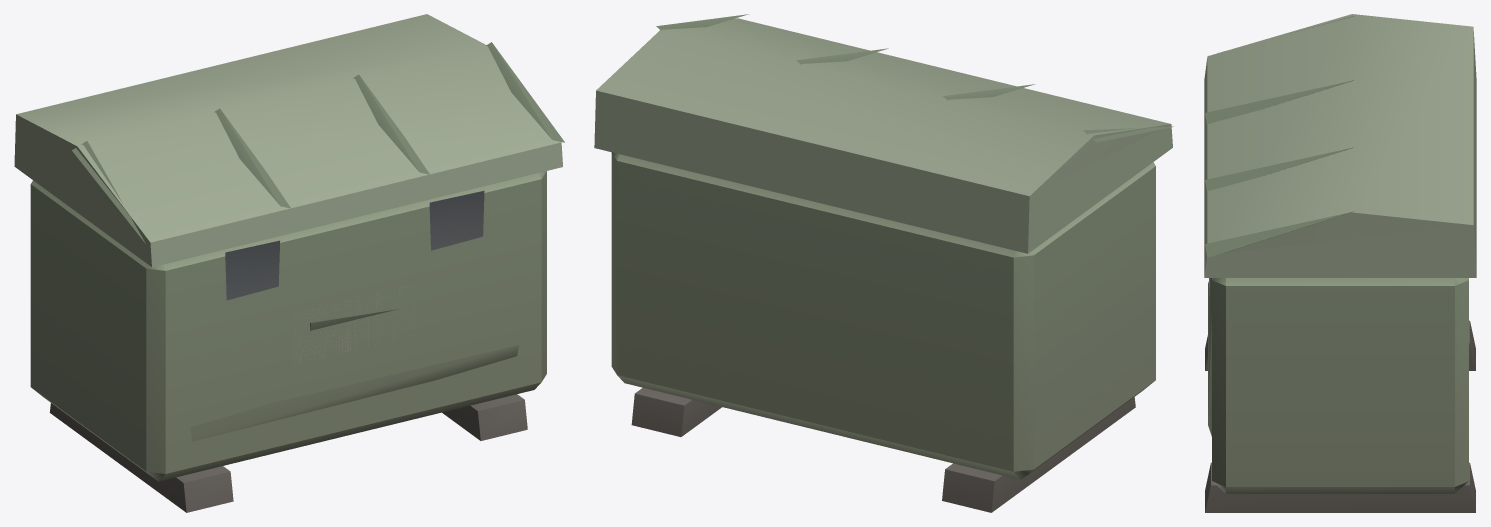
Rendered from vault.lod1.glb.
3 renders of one model, left to right at view 1: azimuth 30°, elevation 25°; view 2: azimuth 150°, elevation 25°; view 3: azimuth 270°, elevation 25°, orthographic. The views are drawn at different scales.
Bounding box in the file's own units: 2.05 × 1.51 × 1.17.
